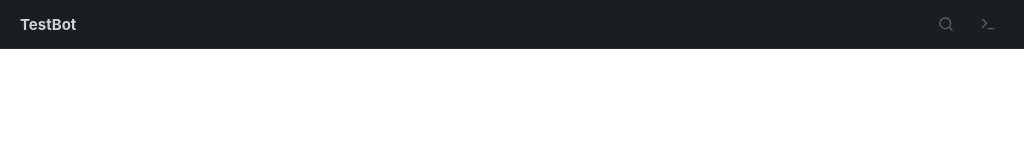
Test: ChatArea › when agent is ready › search functionality › navigates to next match on Enter
The width and height of the screenshot is (1024, 160).
Press f
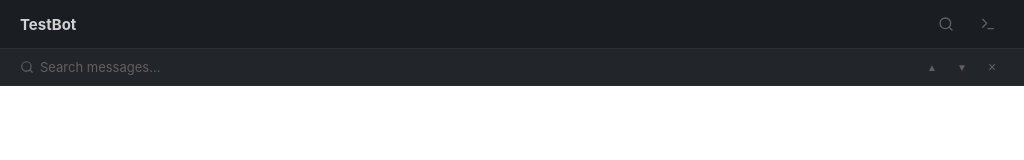
In the field with placeholder "Search messages…": (477,67) 40,59 -> 914,75, type "Hello"
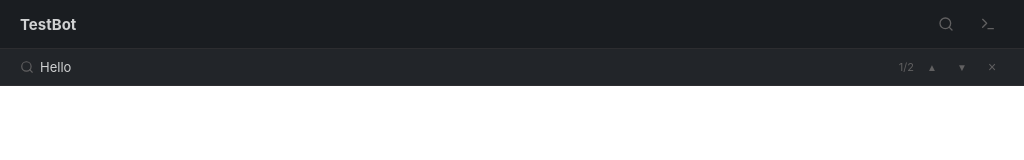
Now the text "1/2" is shown, box 899,60 -> 914,74
// Press Enter to go to next match
Press Enter in the field with placeholder "Search messages…", box 40,59 -> 893,75
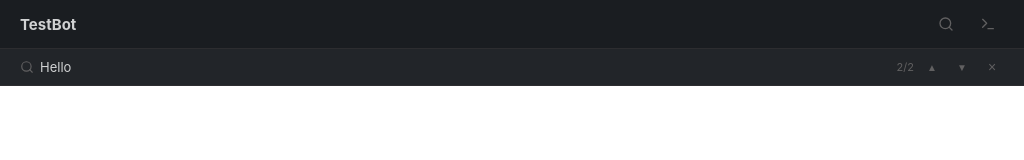
Now the text "2/2" is shown, box 897,60 -> 914,74
